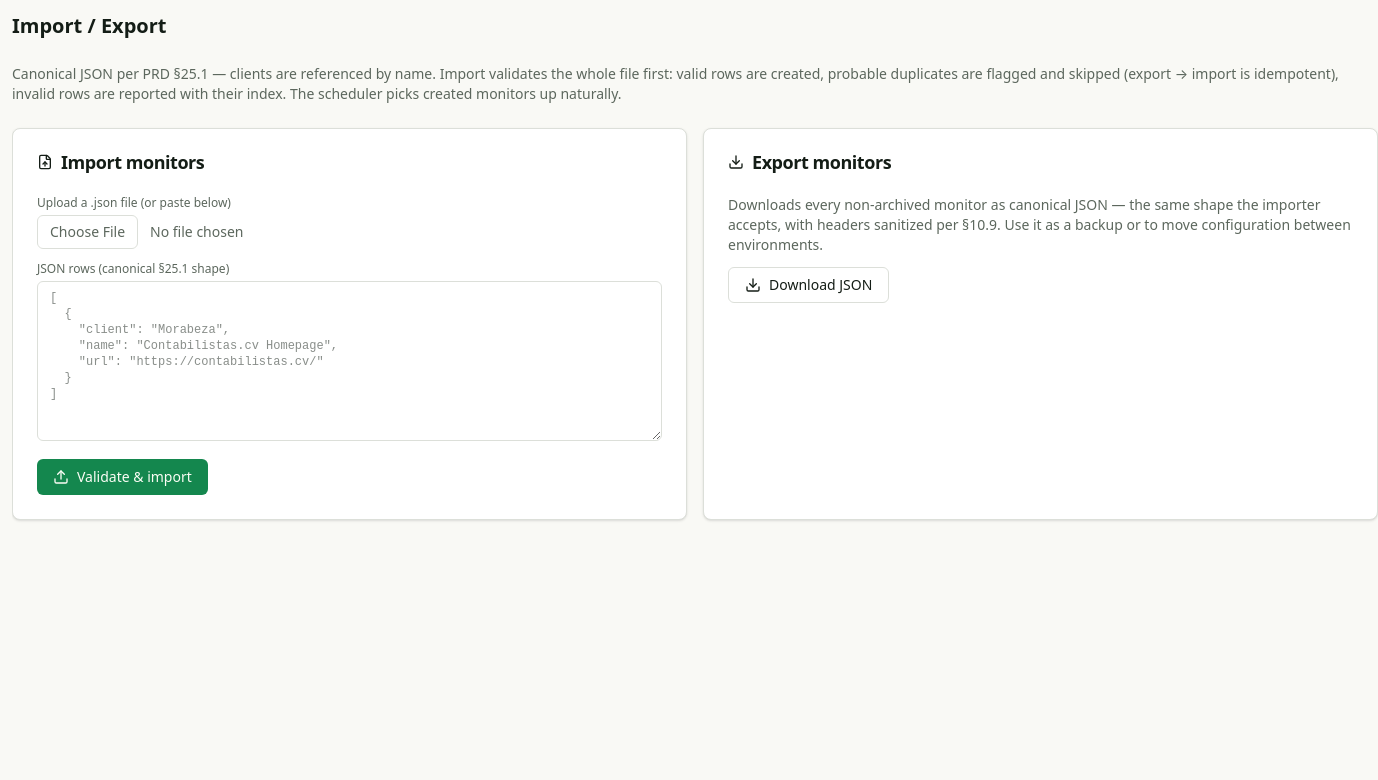
Scenario: ImportExportPage (PRD §25, §27.2) › export downloads the JSON via a blob URL
What coordinates should you click on to do the following:
click the button "Download JSON"
I would click on:
 (809, 285)
Its box is [728,267,889,303].
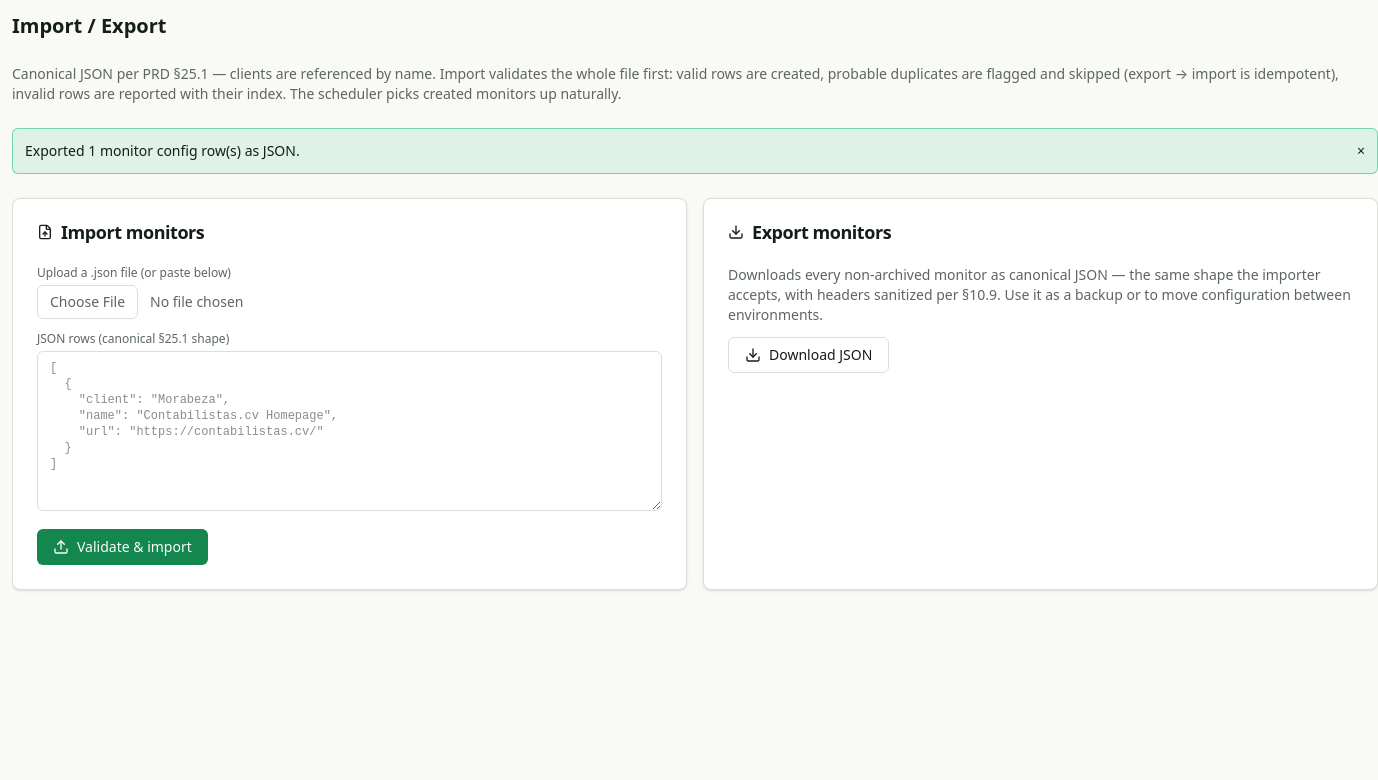
expect the message shows "Exported 1 monitor config row": met, box [25,141,300,160]
